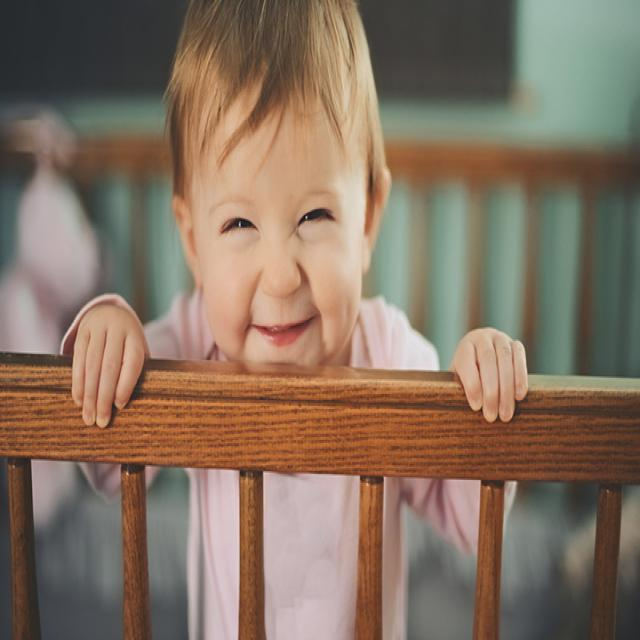non-dog: (61, 1, 529, 633)
